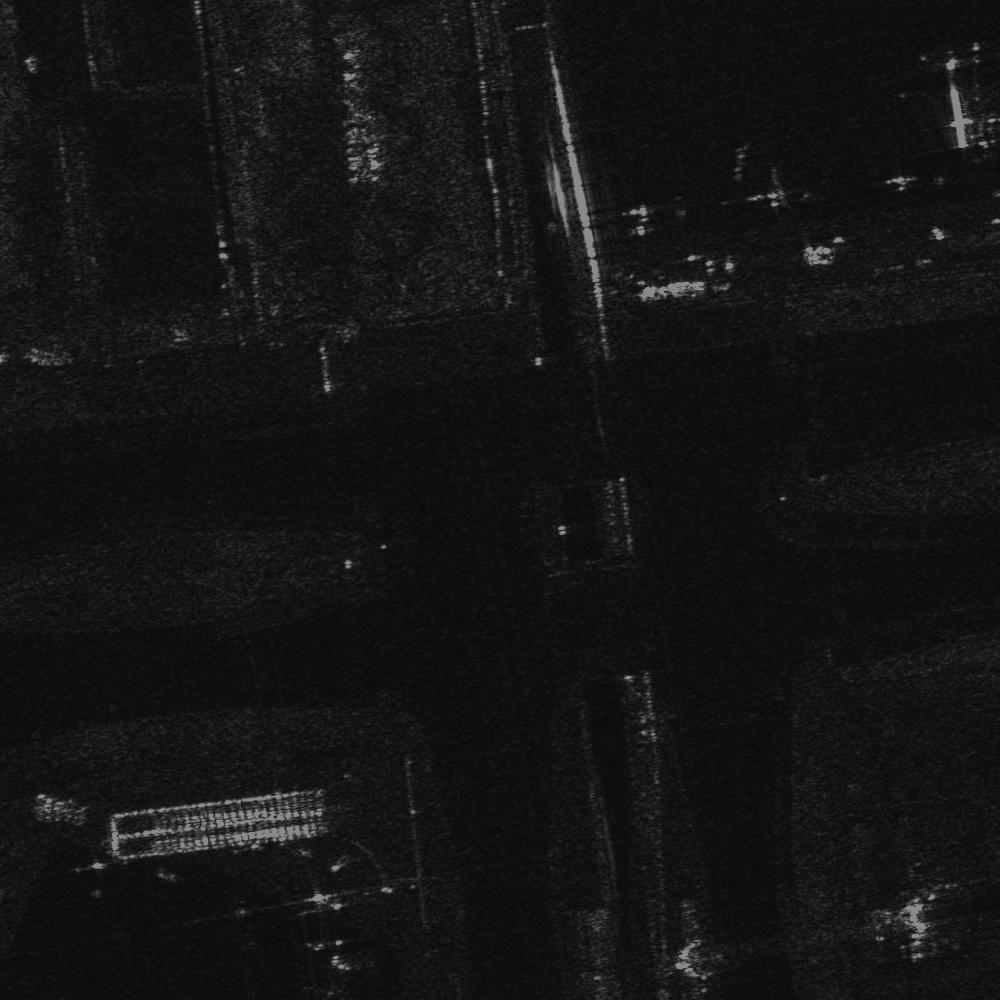Boeing787: (893, 31, 999, 149), (273, 964, 369, 999)
